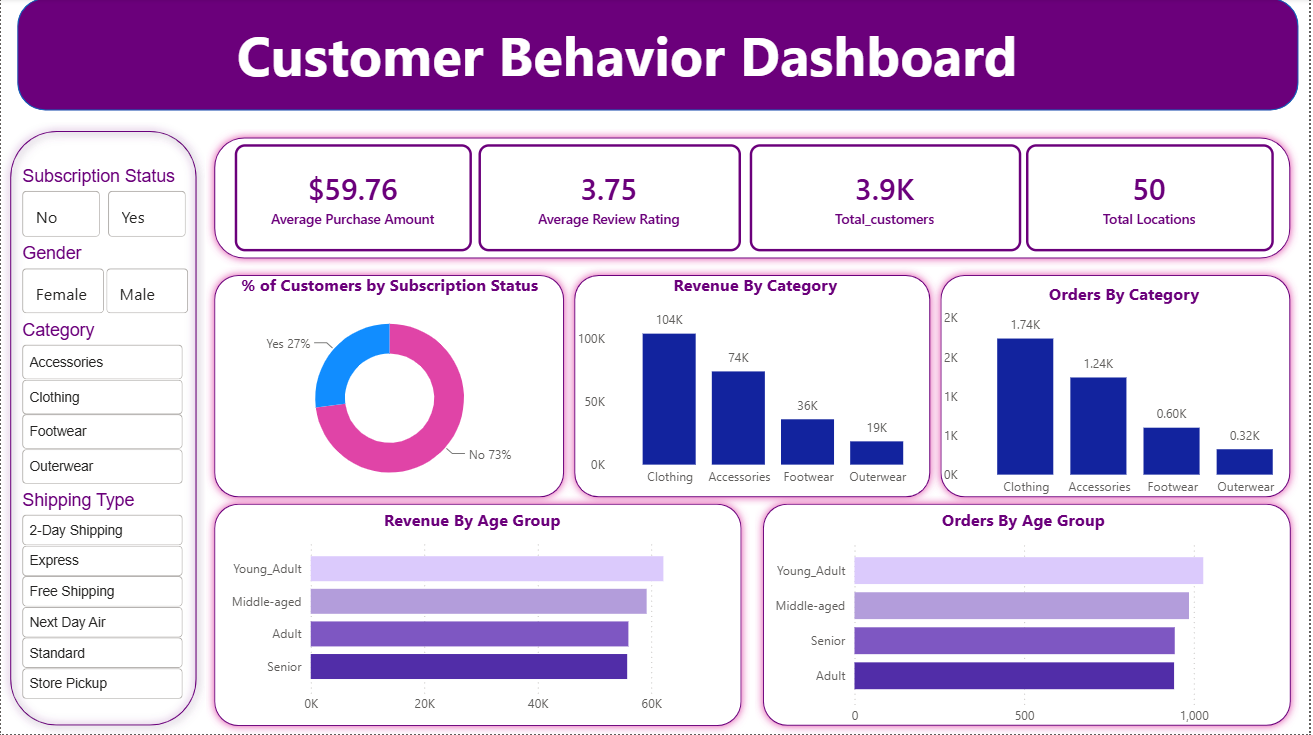

The dashboard page shown, as its layout file describes it:
{"tool":"powerbi","page":{"name":"Page 1","canvas":[1280,720],"ordinal":0},"visuals":[{"type":"shape","box":[200.5,486.7,531.9,233.6],"z":0},{"type":"shape","box":[736.9,487.1,532.4,233.3],"z":1000},{"type":"shape","box":[911,262.9,358.3,233.6],"z":2000},{"type":"shape","box":[552.7,262.9,364.4,233.6],"z":3000},{"type":"shape","box":[200.5,128.4,1068.8,134.5],"z":4000},{"type":"shape","box":[15.9,0,1253.4,110.1],"z":5000},{"type":"textbox","box":[143.1,13.5,939.1,107.6],"z":6000},{"type":"shape","box":[200.5,262.9,358.3,233.6],"z":7000},{"type":"shape","box":[0,120.8,200.3,599.7],"z":8000},{"type":"donutChart","title":"% of Customers by Subscription Status","fields":{"Y":["CountNonNull(customer_behavior customer.customer_id)"],"Category":["customer_behavior customer.subscription_status"]},"box":[211.6,269,337.5,223.8],"z":9000},{"type":"columnChart","title":"Revenue By Category","fields":{"Y":["Sum(customer_behavior customer.purchase_amount)"],"Category":["customer_behavior customer.category"]},"box":[558.8,269,358.3,217.7],"z":10000},{"type":"columnChart","title":"Orders By Category","fields":{"Category":["customer_behavior customer.category"],"Y":["CountNonNull(customer_behavior customer.customer_id)"]},"box":[917.1,277.6,363.2,218.9],"z":11000},{"type":"advancedSlicerVisual","fields":{"Values":["customer_behavior customer.subscription_status"]},"box":[15.9,163.9,171.2,75.8],"z":12000},{"type":"advancedSlicerVisual","fields":{"Values":["customer_behavior customer.gender"]},"box":[15.9,239.7,173.6,74.6],"z":13000},{"type":"advancedSlicerVisual","fields":{"Values":["customer_behavior customer.category"]},"box":[15.9,314.3,167.5,166.3],"z":14000},{"type":"advancedSlicerVisual","fields":{"Values":["customer_behavior customer.shipping_type"]},"box":[15.9,480.6,167.5,211.6],"z":15000},{"type":"clusteredBarChart","title":"Revenue By Age Group","fields":{"Category":["customer_behavior customer.age_group"],"Y":["Sum(customer_behavior customer.purchase_amount)"]},"box":[215.2,498.9,491.6,210.3],"z":16000},{"type":"clusteredBarChart","title":"Orders By Age Group","fields":{"Category":["customer_behavior customer.age_group"],"Y":["CountNonNull(customer_behavior customer.customer_id)"]},"box":[747.2,498.9,506.3,221.3],"z":17000},{"type":"cardVisual","fields":{"Data":["customer_behavior customer.Average Purchase Amount"]},"box":[228.7,143.1,232.3,105.2],"z":18000},{"type":"cardVisual","fields":{"Data":["customer_behavior customer.Average Review Rating"]},"box":[467.1,143.1,256.8,105.2],"z":19000},{"type":"cardVisual","fields":{"Data":["customer_behavior customer.Total_customers"]},"box":[732.5,143.1,265.4,105.2],"z":20000},{"type":"cardVisual","fields":{"Data":["customer_behavior customer.Total Locations"]},"box":[1002.7,143.1,242.1,105.2],"z":21000}]}

Visuals, with their boxes in screenshot pixels (x1, y1, x2, y2), scaled from the page's 1280x720 canvas onto the 1313x735 screenshot:
shape: 206, 497, 751, 734
shape: 756, 497, 1302, 734
shape: 934, 268, 1302, 507
shape: 567, 268, 941, 507
shape: 206, 131, 1302, 268
shape: 16, 0, 1302, 112
textbox: 147, 14, 1110, 124
shape: 206, 268, 573, 507
shape: 0, 123, 205, 734
"% of Customers by Subscription Status" donutChart: 217, 275, 563, 503
"Revenue By Category" columnChart: 573, 275, 941, 497
"Orders By Category" columnChart: 941, 283, 1312, 507
advancedSlicerVisual - customer_behavior customer.subscription_status: 16, 167, 192, 245
advancedSlicerVisual - customer_behavior customer.gender: 16, 245, 194, 321
advancedSlicerVisual - customer_behavior customer.category: 16, 321, 188, 491
advancedSlicerVisual - customer_behavior customer.shipping_type: 16, 491, 188, 707
"Revenue By Age Group" clusteredBarChart: 221, 509, 725, 724
"Orders By Age Group" clusteredBarChart: 766, 509, 1286, 734
cardVisual - customer_behavior customer.Average Purchase Amount: 235, 146, 473, 253
cardVisual - customer_behavior customer.Average Review Rating: 479, 146, 743, 253
cardVisual - customer_behavior customer.Total_customers: 751, 146, 1024, 253
cardVisual - customer_behavior customer.Total Locations: 1029, 146, 1277, 253
